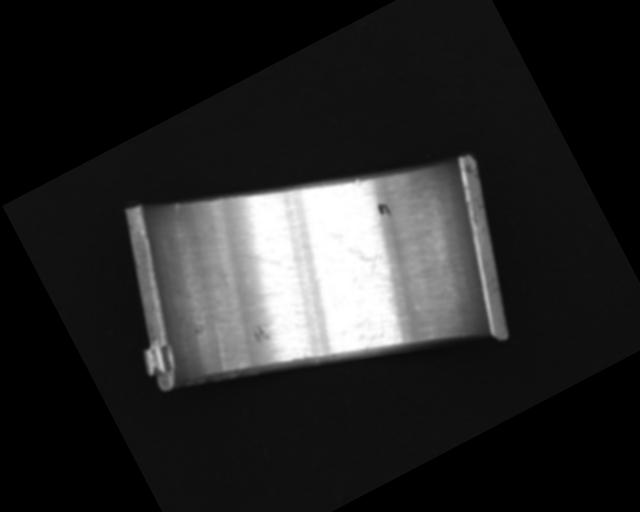blot: (339, 231, 395, 290), (374, 198, 393, 221)
bruise: (250, 323, 272, 347), (352, 177, 362, 187)
nick: (237, 235, 297, 292), (169, 202, 182, 216)
